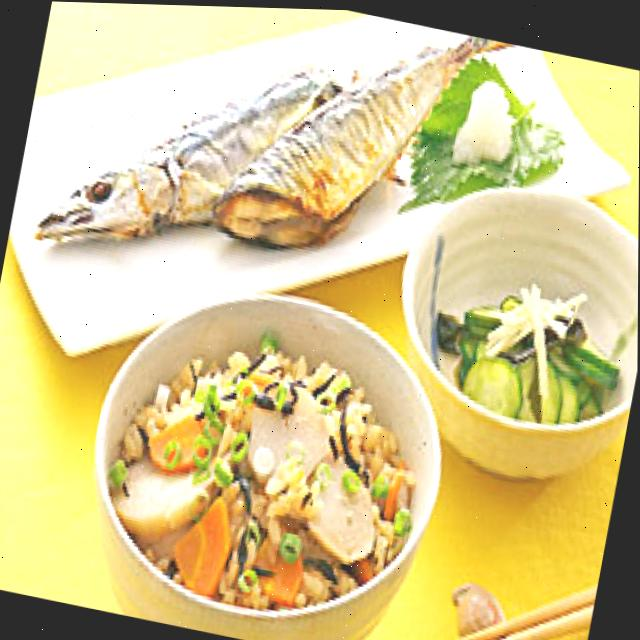熟制海鲜: (22, 1, 536, 357)
